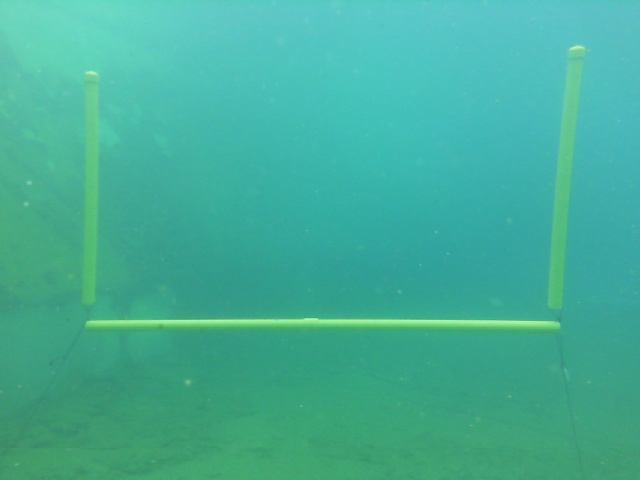channel: (81, 45, 586, 336)
